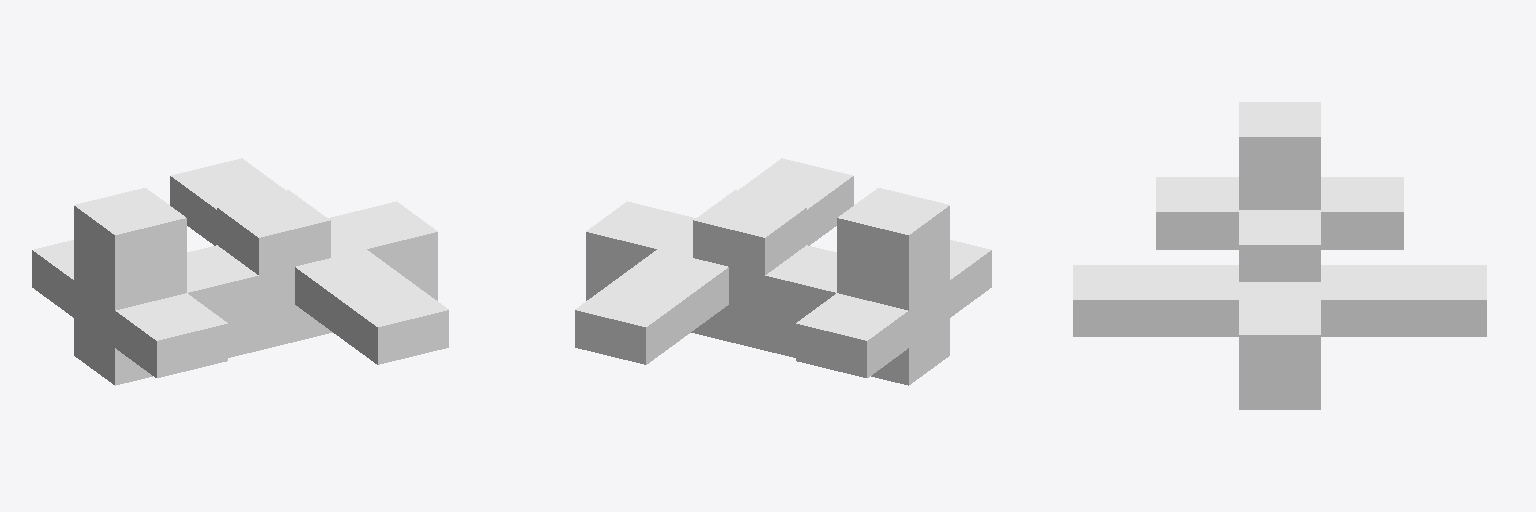
Rendered from flightTest.obj.
The picture shows the model from 3 angles: view 1: azimuth 30°, elevation 25°; view 2: azimuth 150°, elevation 25°; view 3: azimuth 270°, elevation 25°; orthographic projection.
Bounding box in the file's own units: 9 × 4 × 10.